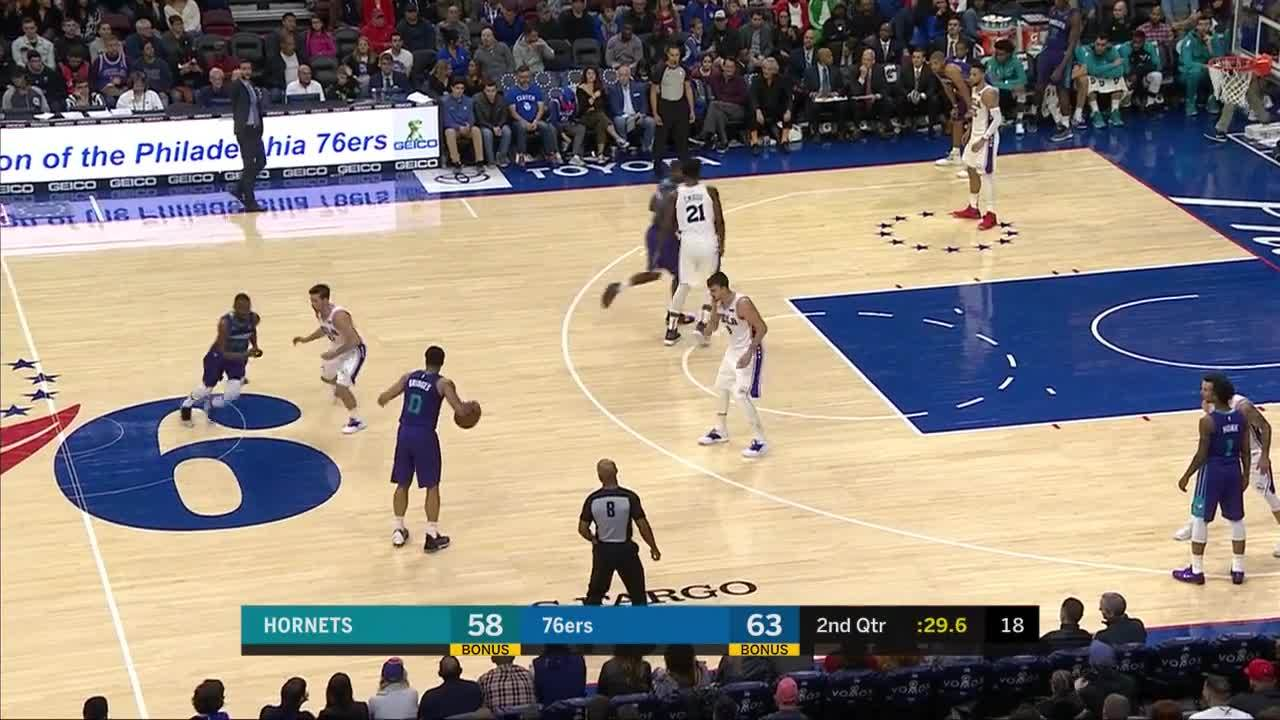geico: (393, 113, 434, 157)
